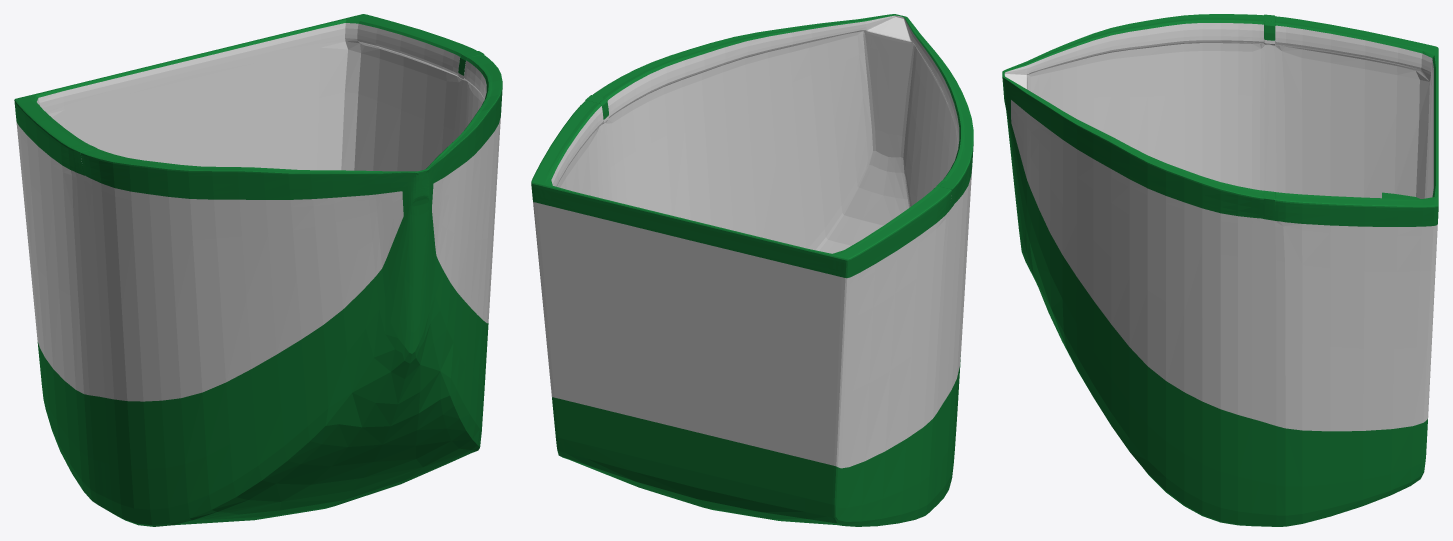
The model's file is sh-bsby-rowboat.glb.
3 views of the same model, side by side, from view 1: azimuth 30°, elevation 25°; view 2: azimuth 150°, elevation 25°; view 3: azimuth 270°, elevation 25° (orthographic). The views are drawn at different scales.
Visible parts, largest first — view 1: Rowboat_Hull_Cube.006; view 2: Rowboat_Hull_Cube.006; view 3: Rowboat_Hull_Cube.006.
Boxes of the visible parts, left/top/right/bottom form: Rowboat_Hull_Cube.006: left=14, top=14, right=502, bottom=526; Rowboat_Hull_Cube.006: left=531, top=14, right=973, bottom=526; Rowboat_Hull_Cube.006: left=1002, top=14, right=1438, bottom=526.
Bounding box in the file's own units: 1 × 1 × 1.
